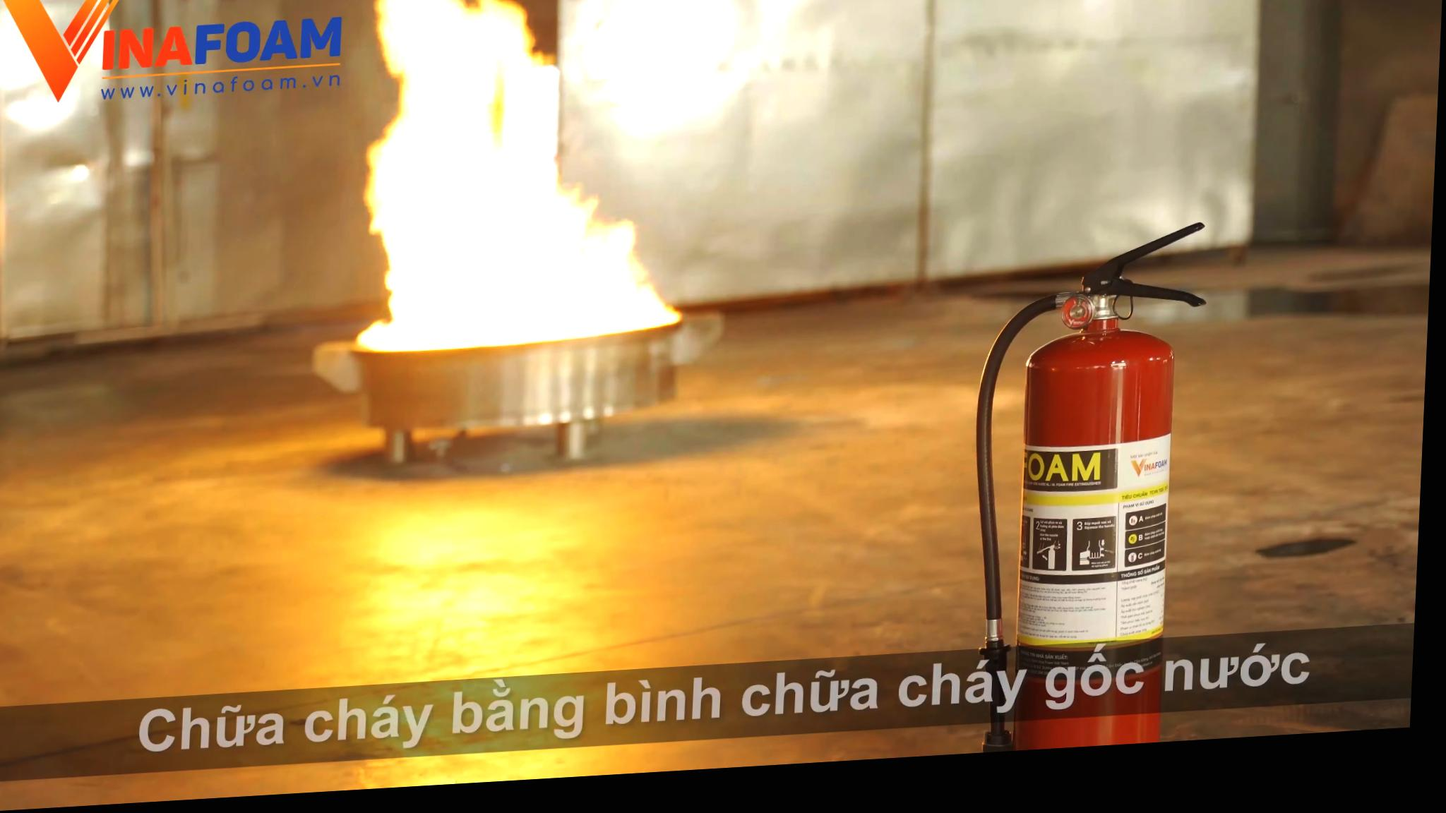FireExtinguisher: (973, 239, 1229, 766)
